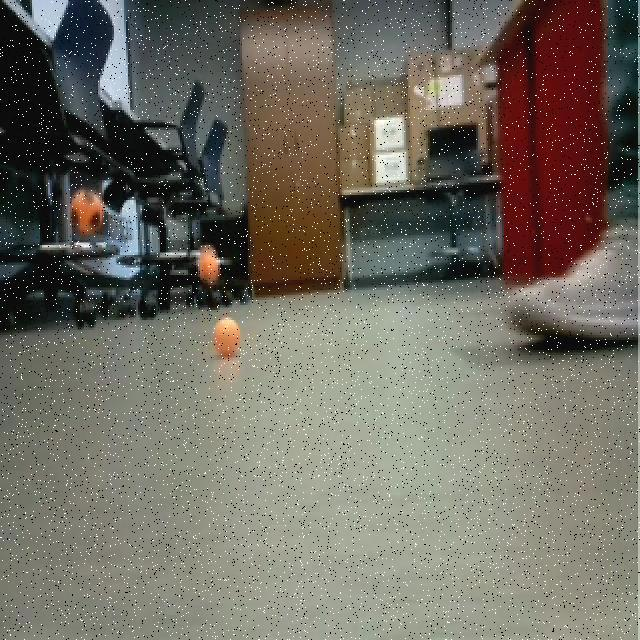ping-pong-ball: (70, 183, 112, 237), (211, 318, 246, 361), (187, 242, 224, 282)
